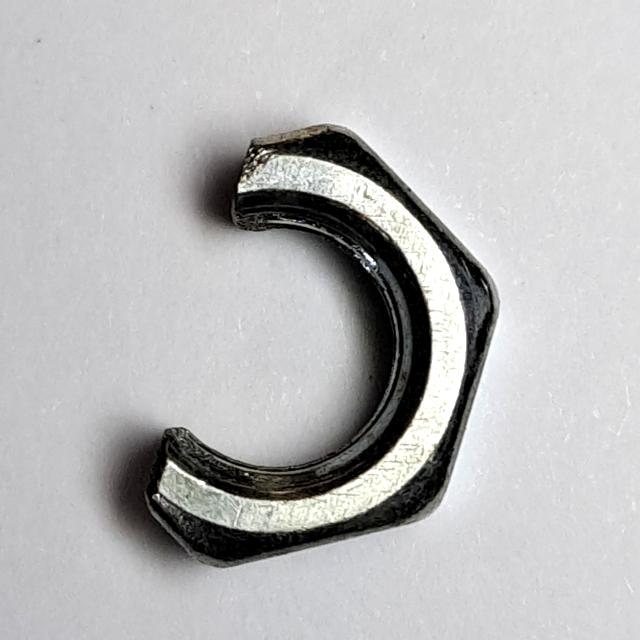Fracture: (124, 113, 513, 584)
